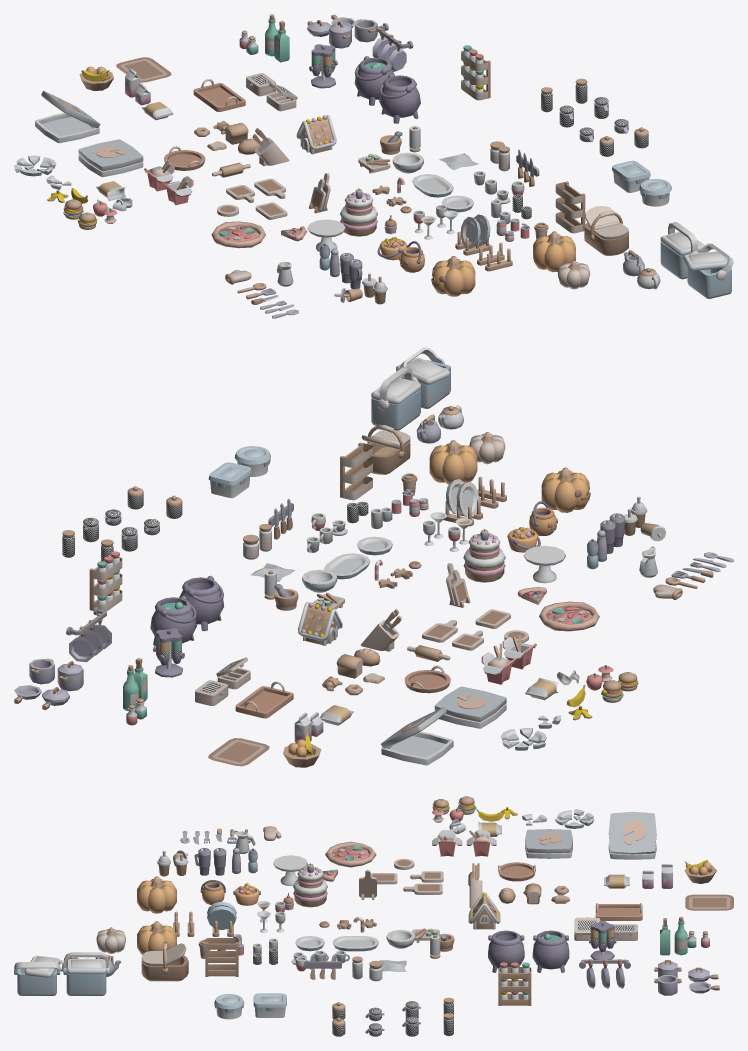
Rendered from food.glb.
The picture shows the model from 3 angles, top to bottom: view 1: azimuth 30°, elevation 25°; view 2: azimuth 150°, elevation 25°; view 3: azimuth 270°, elevation 25°; orthographic projection. The views are drawn at different scales.
Parts seen in each view (by area): view 1: cooler-open, pizza-box-open, pizza-box-closed, picnic-basket, kettle-empty, cooler, pumpkin-carved, march7 (%secret), spice-rack (%wall), pumpkin, spice-rack-empty (%wall), kettle-goop (+27 smaller); view 2: cooler, pizza-box-open, pizza-box-closed, cooler-open, pumpkin-carved, march7 (%secret), pumpkin, picnic-basket, spice-rack (%wall), kettle-empty, kettle-goop, spice-rack-empty (%wall) (+23 smaller); view 3: pizza-box-open, cooler, cooler-open, picnic-basket, spice-rack (%wall), pizza-box-closed, kettle-goop, spice-rack-empty (%wall), pumpkin-carved, kettle-empty, march7 (%secret), pizza (+28 smaller).
Part boxes in pixels (box(x1,y1,x2,y2)): cooler-open: box(683, 243, 733, 298); pizza-box-open: box(35, 90, 100, 143); pizza-box-closed: box(78, 139, 143, 177); picnic-basket: box(584, 206, 628, 255); kettle-empty: box(379, 74, 420, 123); cooler: box(660, 222, 704, 279); pumpkin-carved: box(431, 256, 475, 296); march7 (%secret): box(340, 188, 377, 236); spice-rack (%wall): box(461, 45, 490, 100); pumpkin: box(533, 231, 575, 272); spice-rack-empty (%wall): box(555, 181, 585, 233); kettle-goop: box(354, 56, 394, 105); cooler: box(371, 367, 420, 430); pizza-box-open: box(380, 707, 453, 765); pizza-box-closed: box(434, 686, 506, 728); cooler-open: box(396, 347, 450, 408); pumpkin-carved: box(541, 467, 590, 512); march7 (%secret): box(463, 529, 505, 582); pumpkin: box(429, 440, 477, 484); picnic-basket: box(361, 424, 410, 474); spice-rack (%wall): box(89, 551, 122, 611); kettle-empty: box(179, 575, 224, 631); kettle-goop: box(150, 595, 196, 645); spice-rack-empty (%wall): box(340, 442, 372, 500); pizza-box-open: box(608, 811, 656, 859); cooler: box(63, 952, 109, 995); cooler-open: box(14, 955, 60, 995); picnic-basket: box(141, 942, 188, 981); spice-rack (%wall): box(498, 962, 531, 1005); pizza-box-closed: box(525, 829, 572, 858); kettle-goop: box(532, 930, 569, 972); spice-rack-empty (%wall): box(205, 938, 238, 976); pumpkin-carved: box(137, 876, 176, 913); kettle-empty: box(488, 930, 524, 972); march7 (%secret): box(293, 863, 327, 907); pizza: box(325, 841, 376, 867).
Bounding box in the file's own units: 7.41 × 0.6176 × 9.81.
2 materials, 1 textured.
